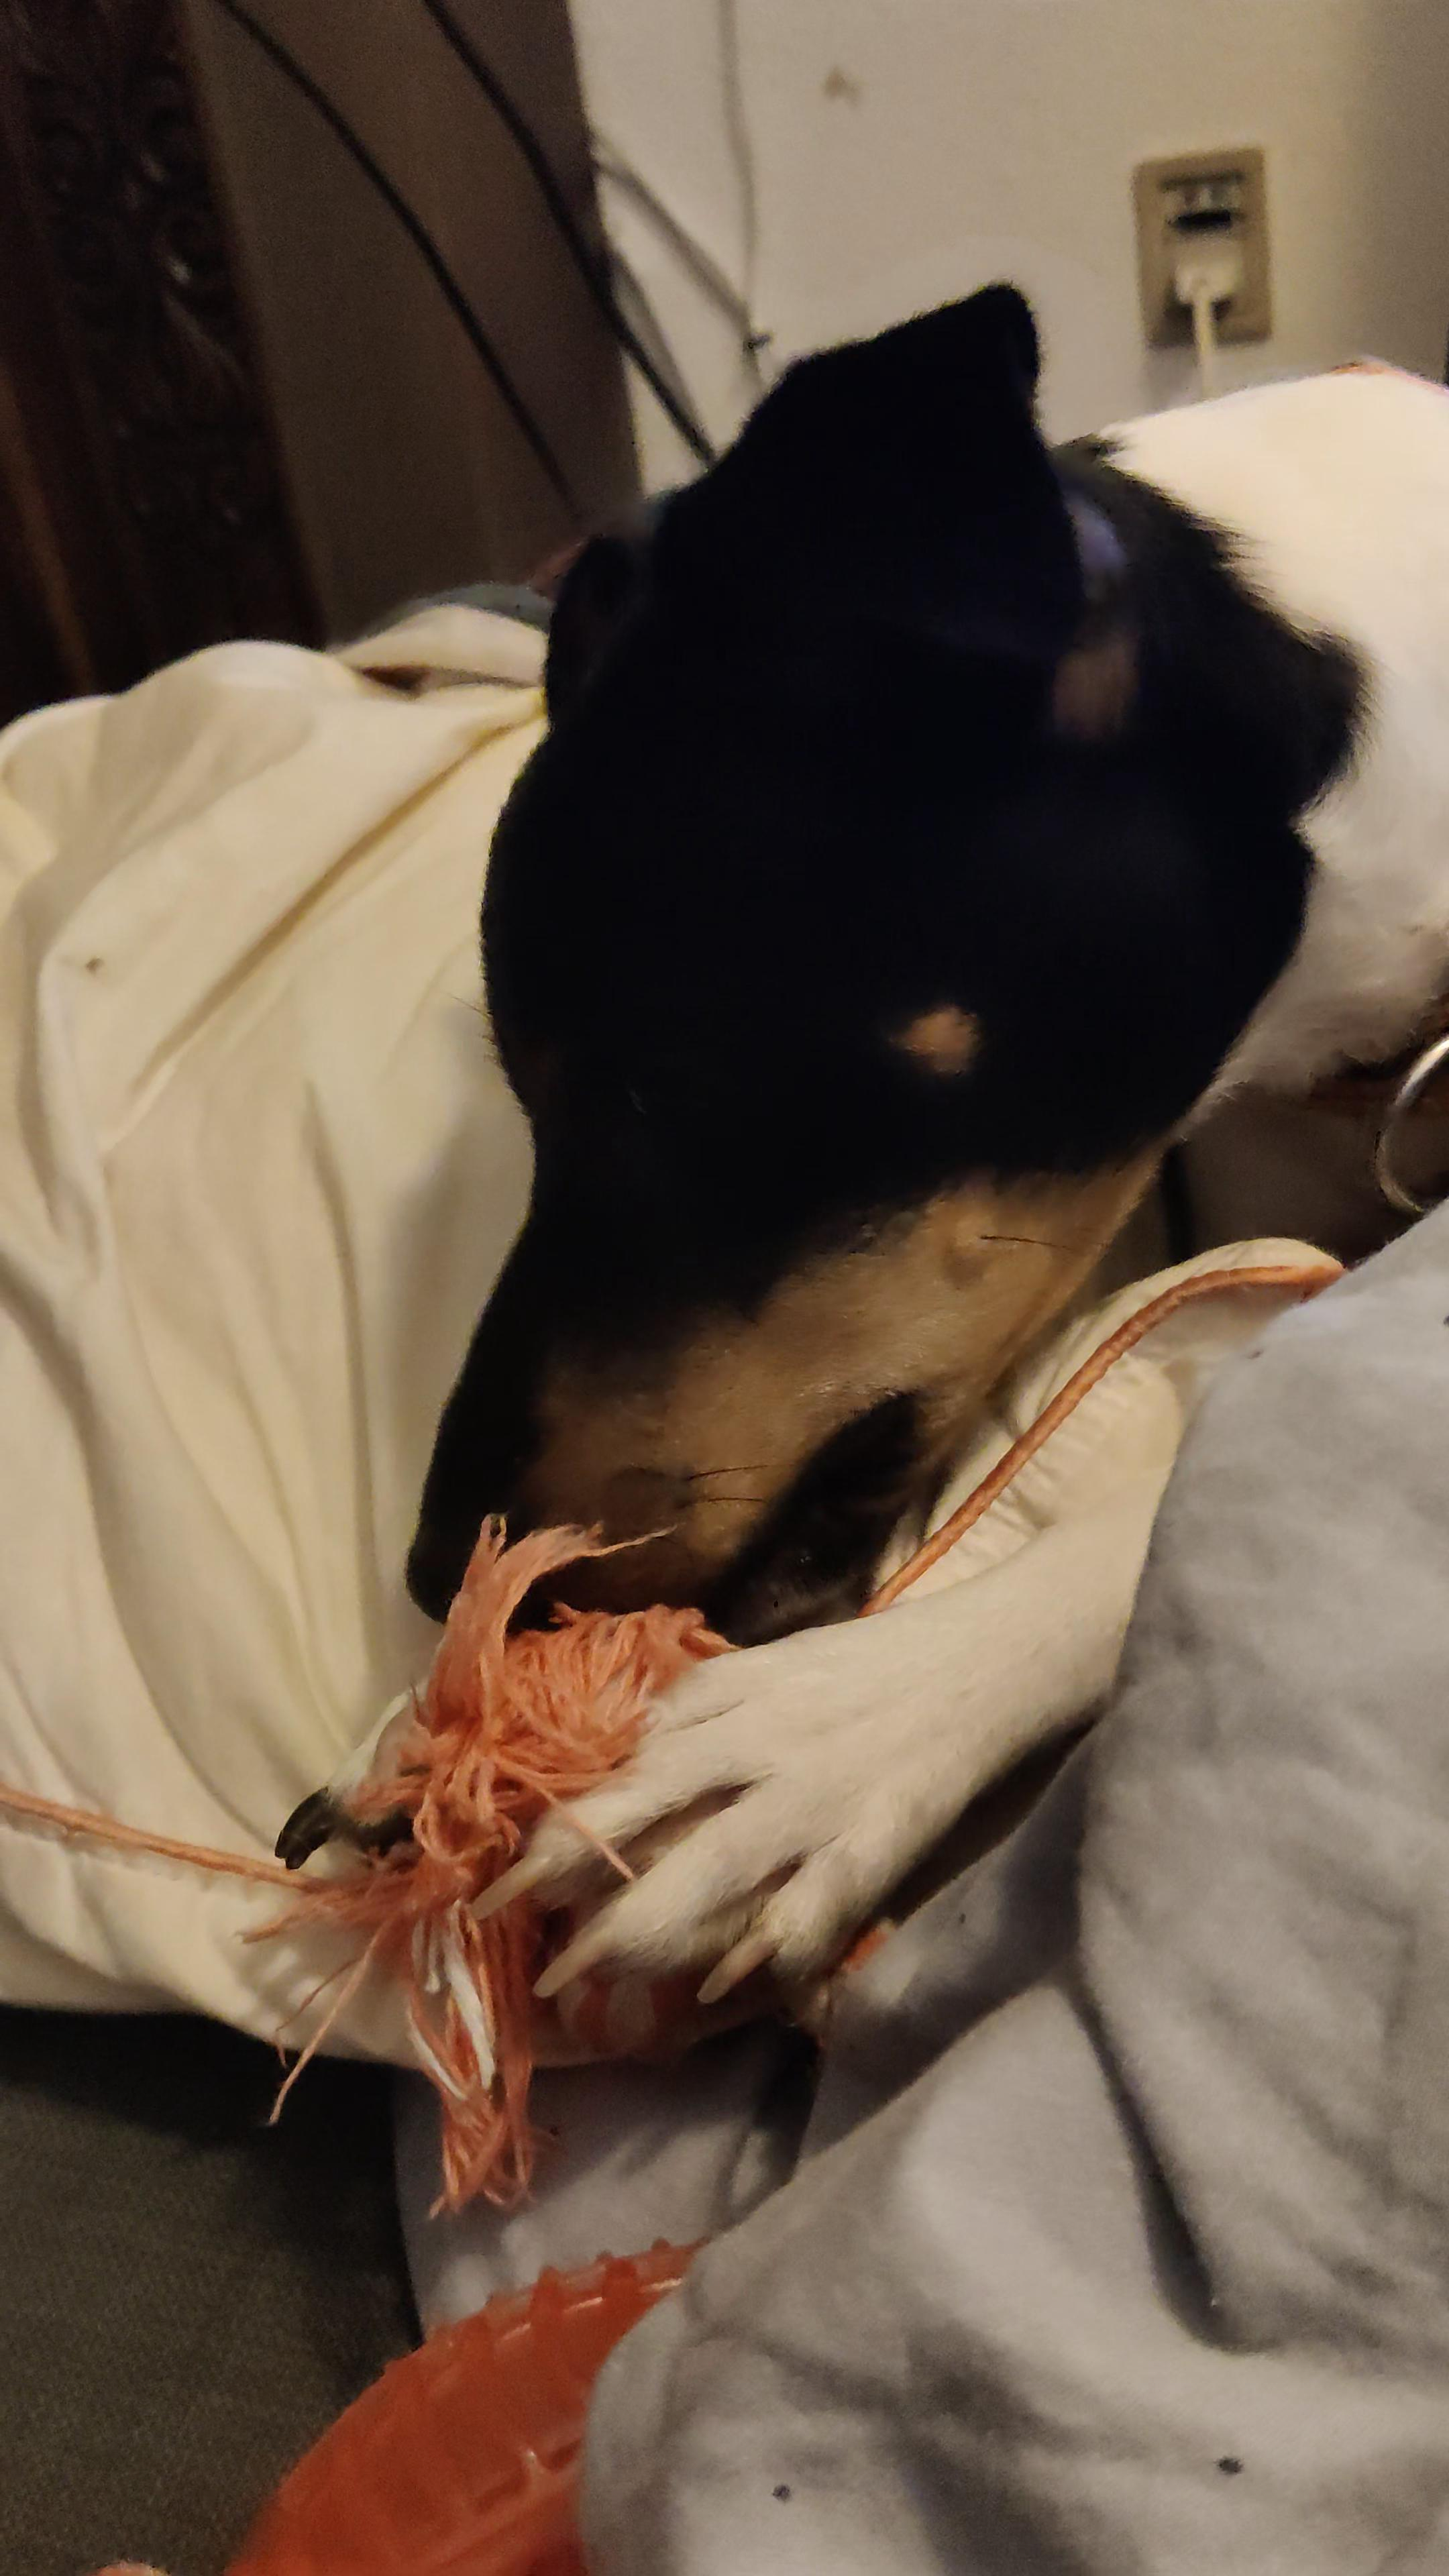Dog: (271, 271, 1449, 2033)
